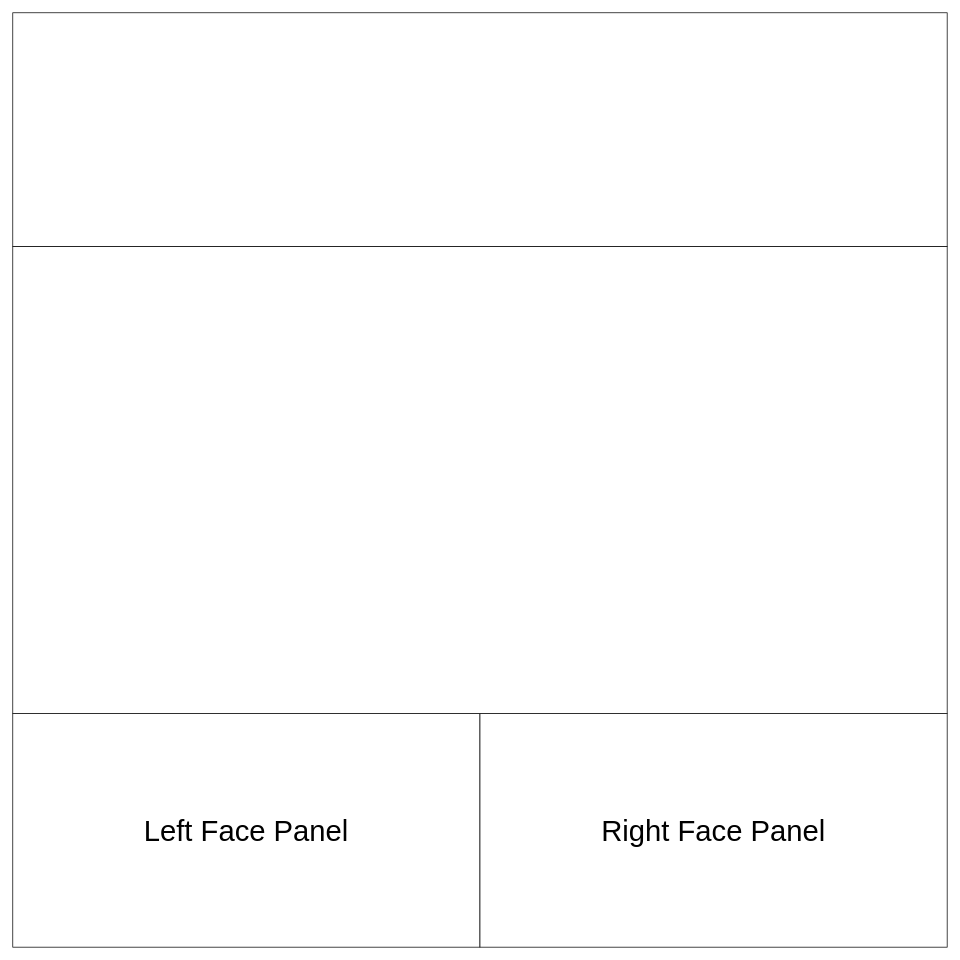
This 960x960 diagram has some shape labels left out. The shapes that lost their labels are listed below. From the top down, each one's centre as x and y in pixels, then its label:
the point at 479,129: Dashboard
the point at 479,480: Viewport
